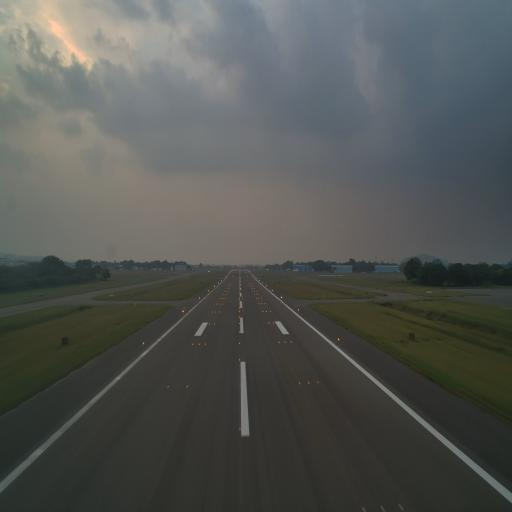off: (175, 383, 180, 390), (238, 381, 242, 389)
on: (336, 334, 341, 344), (238, 424, 242, 432), (166, 383, 170, 391), (307, 379, 311, 387), (185, 384, 189, 391), (316, 379, 320, 385), (283, 340, 287, 346), (298, 379, 301, 386), (142, 341, 146, 346), (238, 357, 242, 362), (278, 340, 281, 346), (192, 342, 194, 347), (204, 342, 206, 347), (239, 341, 241, 346), (290, 340, 292, 345), (198, 342, 200, 346)
